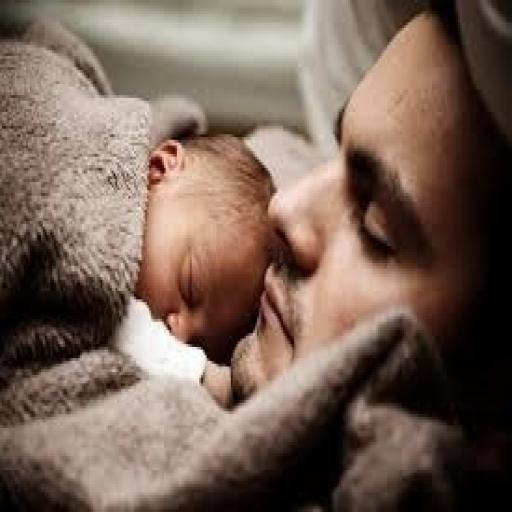hugging: (0, 3, 510, 509)
